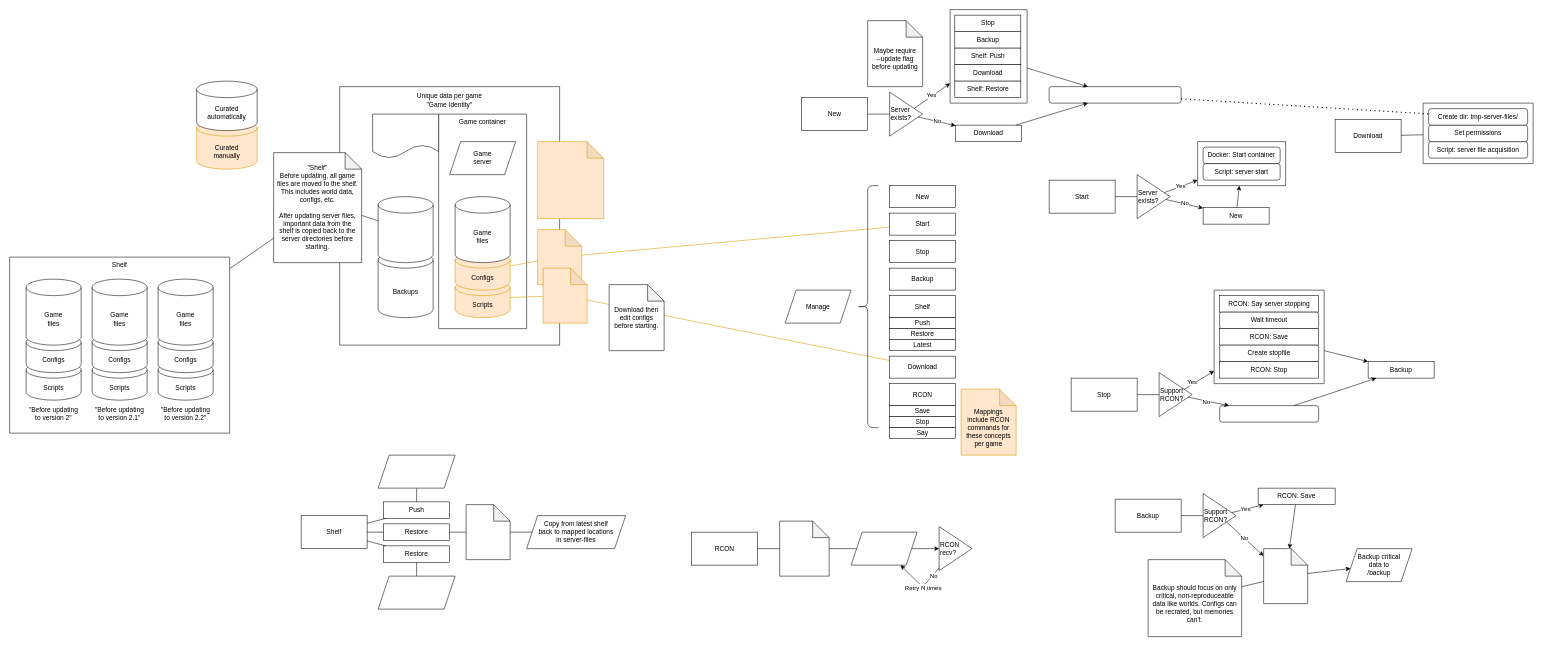
This 1543x646 diagram has some shape labels left out. The box of each missing label's shape, as (x1, y1, x2, y2) in pixels:
Docker: Stop container: (1219, 405, 1319, 422)
Game "shelf": (378, 196, 433, 263)
Game image: (372, 114, 439, 158)
Get file mapping: critical data for backup: (1263, 548, 1308, 604)
Get file mapping: shelf restore paths: (466, 504, 510, 560)
Get subcommand mapping: (779, 521, 829, 576)
Mappings: shelf restore paths backup paths RCON commands: (537, 141, 604, 219)
Move server-files/ to a new directory in shelf/: (378, 455, 455, 488)
Print the latest directory in shelf/: (378, 576, 455, 609)
Rename tmp-server-files/ to server-files/: (1049, 86, 1181, 103)
Send to server: (851, 532, 917, 565)
Server file acquisition: (543, 268, 587, 323)
Server start: (537, 229, 582, 285)
